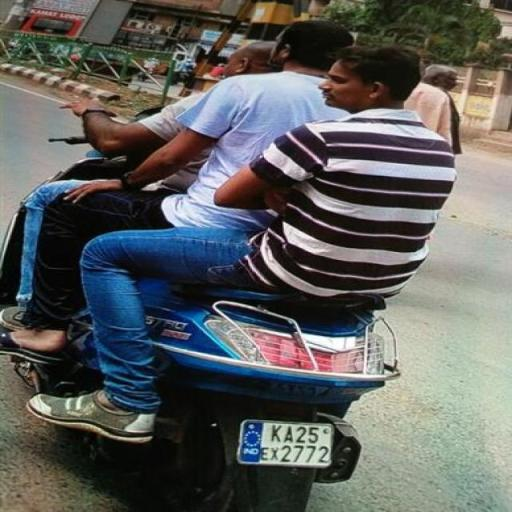tripple riding: (8, 19, 462, 292)
